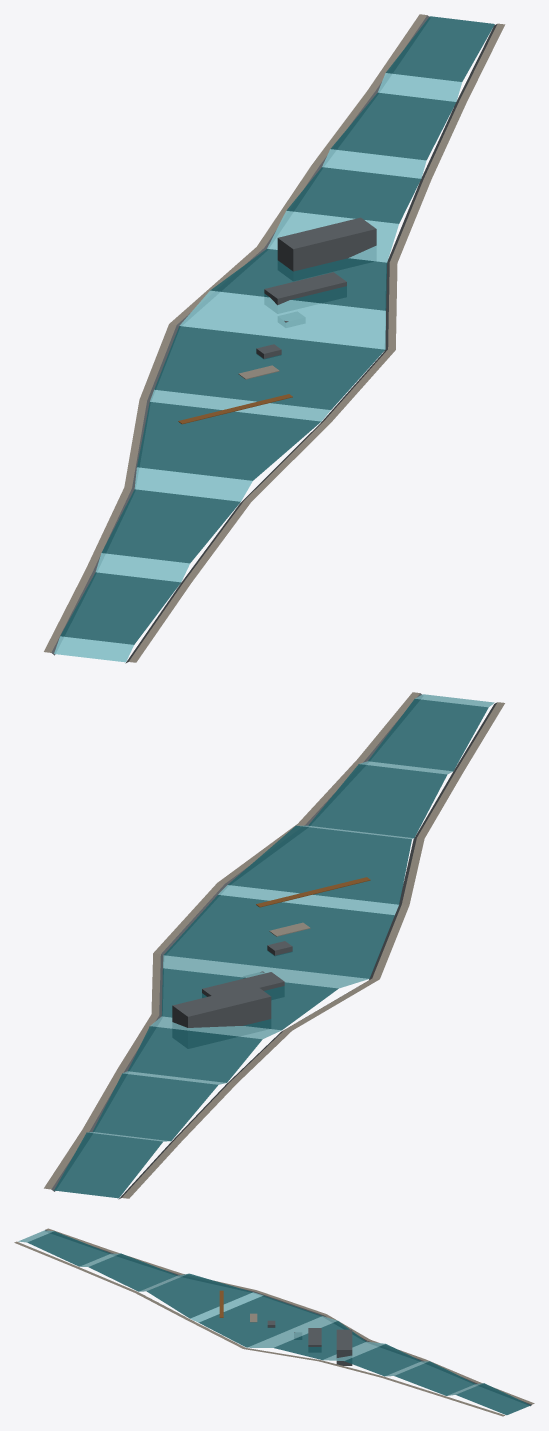
File: water_thac_da_ton_lam_ha.glb
3 renders of one model, top to bottom at view 1: azimuth 30°, elevation 25°; view 2: azimuth 210°, elevation 25°; view 3: azimuth 270°, elevation 25°, orthographic. The views are drawn at different scales.
Parts seen in each view (by area): view 1: water_terraces_water_thac_da_ton_lam_ha, waterfall_curtain_water_thac_da_ton_lam_ha, canyon_walkway_water_thac_da_ton_lam_ha, da_ton_three_tier_basalt_granite_cliff, basalt_canyon_embankments_water_thac_da_ton_lam_ha, da_ton_middle_mossy_terrace_ledge; view 2: water_terraces_water_thac_da_ton_lam_ha, canyon_walkway_water_thac_da_ton_lam_ha, waterfall_curtain_water_thac_da_ton_lam_ha, da_ton_three_tier_basalt_granite_cliff, basalt_canyon_embankments_water_thac_da_ton_lam_ha, da_ton_middle_mossy_terrace_ledge; view 3: water_terraces_water_thac_da_ton_lam_ha, canyon_walkway_water_thac_da_ton_lam_ha, waterfall_curtain_water_thac_da_ton_lam_ha, da_ton_three_tier_basalt_granite_cliff, basalt_canyon_embankments_water_thac_da_ton_lam_ha, da_ton_middle_mossy_terrace_ledge.
Part boxes in pixels (box(x1,y1,x2,y2)): water_terraces_water_thac_da_ton_lam_ha: box(60, 16, 494, 644); waterfall_curtain_water_thac_da_ton_lam_ha: box(54, 73, 462, 662); canyon_walkway_water_thac_da_ton_lam_ha: box(44, 14, 505, 662); da_ton_three_tier_basalt_granite_cliff: box(277, 217, 376, 271); basalt_canyon_embankments_water_thac_da_ton_lam_ha: box(51, 15, 497, 663); da_ton_middle_mossy_terrace_ledge: box(264, 272, 346, 305); water_terraces_water_thac_da_ton_lam_ha: box(54, 699, 488, 1198); canyon_walkway_water_thac_da_ton_lam_ha: box(44, 692, 504, 1198); waterfall_curtain_water_thac_da_ton_lam_ha: box(87, 694, 494, 1141); da_ton_three_tier_basalt_granite_cliff: box(172, 985, 271, 1027); basalt_canyon_embankments_water_thac_da_ton_lam_ha: box(51, 693, 497, 1199); da_ton_middle_mossy_terrace_ledge: box(202, 972, 284, 996); water_terraces_water_thac_da_ton_lam_ha: box(27, 1231, 530, 1415); canyon_walkway_water_thac_da_ton_lam_ha: box(14, 1228, 534, 1416); waterfall_curtain_water_thac_da_ton_lam_ha: box(18, 1230, 483, 1395); da_ton_three_tier_basalt_granite_cliff: box(336, 1329, 352, 1365); basalt_canyon_embankments_water_thac_da_ton_lam_ha: box(45, 1229, 531, 1406); da_ton_middle_mossy_terrace_ledge: box(308, 1328, 321, 1346).
Bounding box in the file's own units: 594 × 45.45 × 585.
